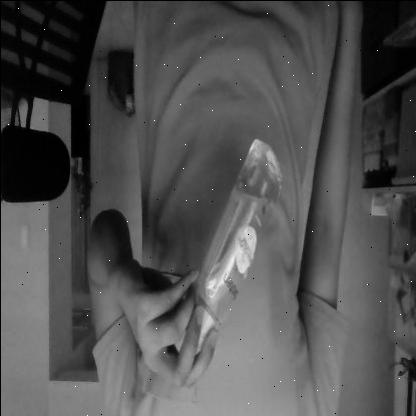Plastic Bottle: (180, 137, 282, 366)
